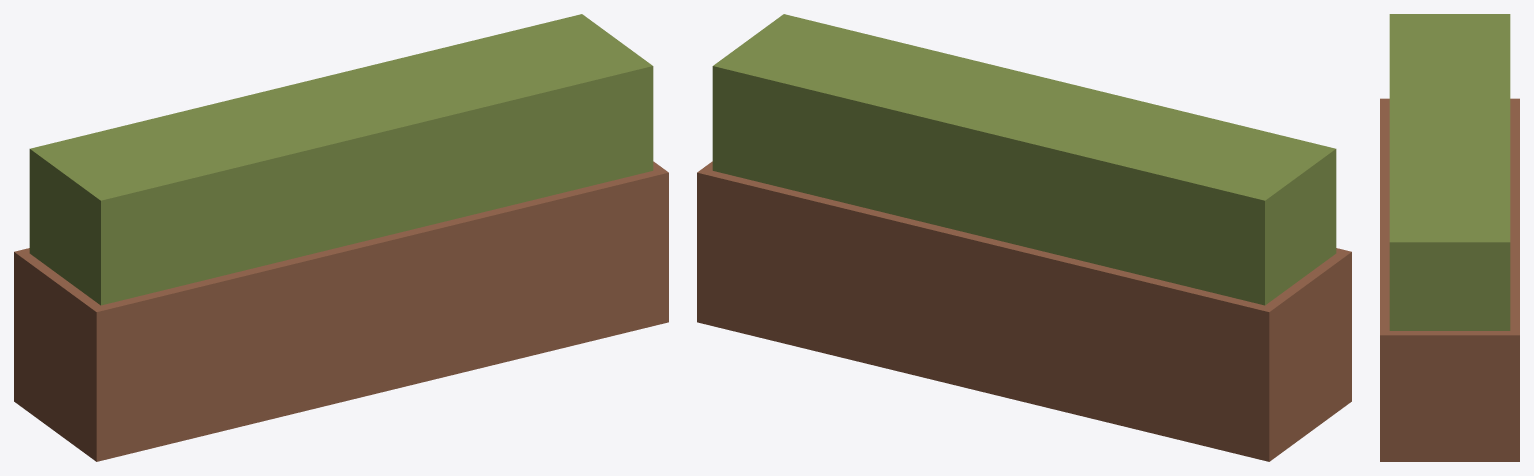
The model's file is GardenBed.fbx.
The picture shows the model from 3 angles, left to right: view 1: azimuth 30°, elevation 25°; view 2: azimuth 150°, elevation 25°; view 3: azimuth 270°, elevation 25°; orthographic projection. The views are drawn at different scales.
Parts seen in each view (by area): view 1: GardenBed; view 2: GardenBed; view 3: GardenBed.
Part boxes in pixels (box(x1,y1,x2,y2)): GardenBed: box(14, 14, 668, 461); GardenBed: box(697, 14, 1351, 461); GardenBed: box(1380, 14, 1519, 461).
Size of the model in its own units: 2.5 by 1.06 by 0.625.
